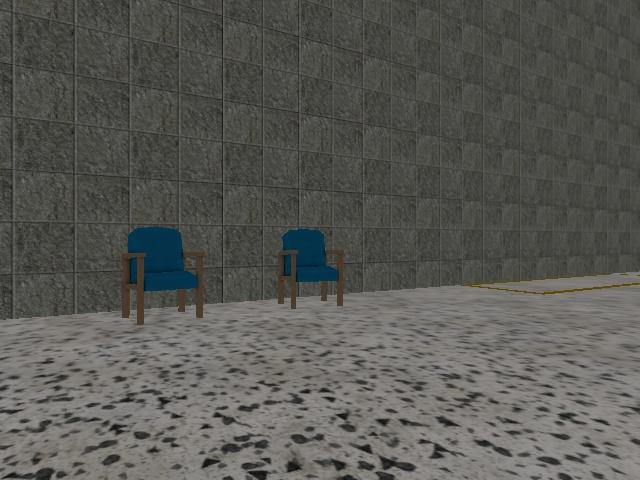chair: (122, 227, 205, 325), (277, 229, 344, 309)
